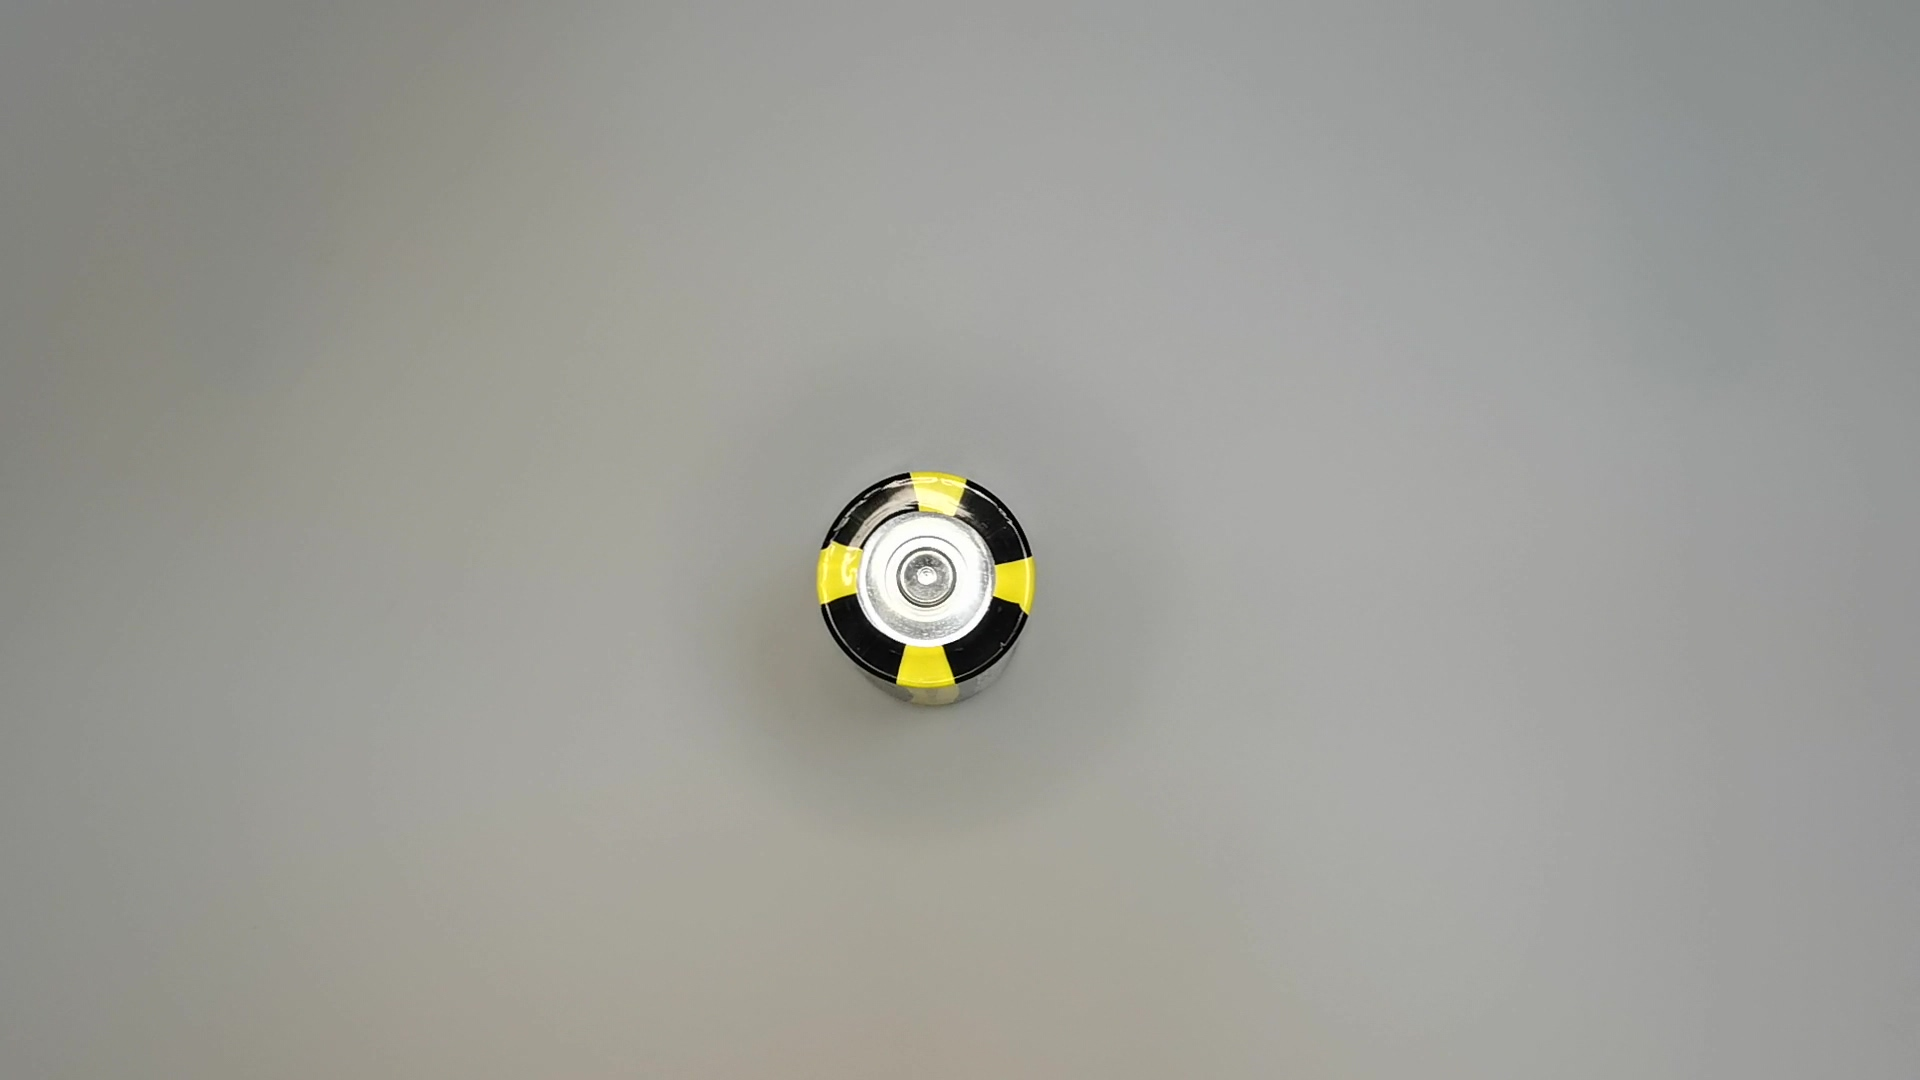battery: (811, 468, 1044, 713)
